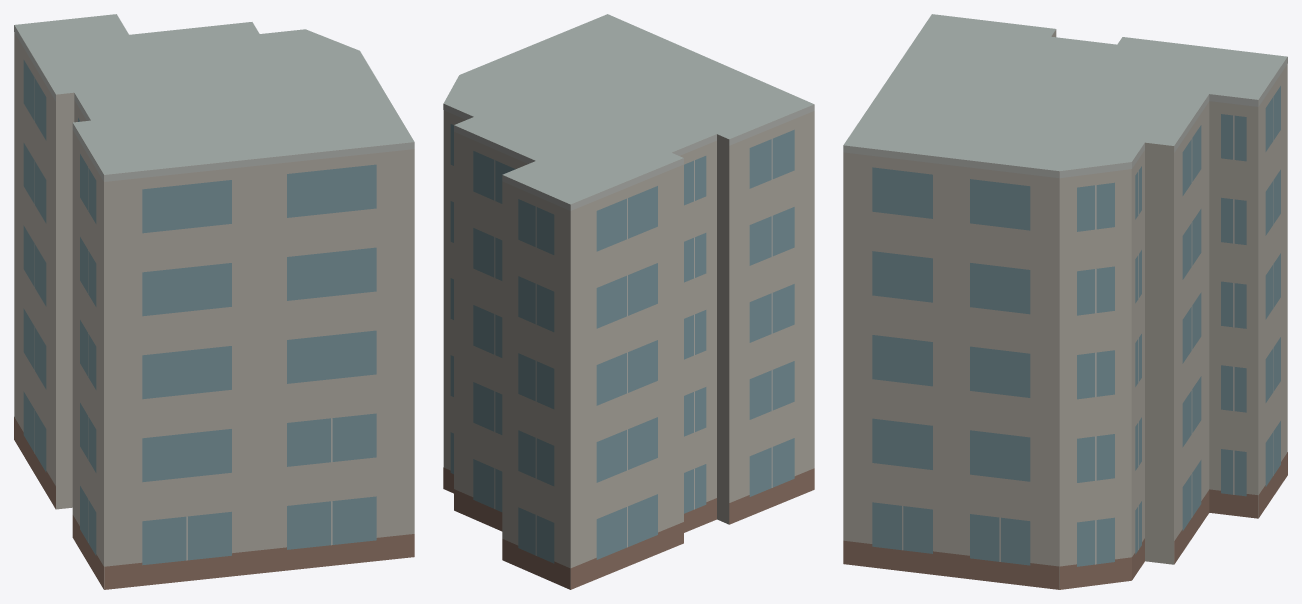
File: survey-upis-32788734.glb
3 views of the same model, side by side, from view 1: azimuth 30°, elevation 25°; view 2: azimuth 150°, elevation 25°; view 3: azimuth 270°, elevation 25° (orthographic). The views are drawn at different scales.
Visible parts, largest first — view 1: survey-upis-32788734.tmp; view 2: survey-upis-32788734.tmp; view 3: survey-upis-32788734.tmp.
Part boxes in pixels (bbox=[...]): survey-upis-32788734.tmp: bbox=[14, 14, 414, 589]; survey-upis-32788734.tmp: bbox=[443, 14, 814, 589]; survey-upis-32788734.tmp: bbox=[843, 14, 1287, 589].
Bounding box in the file's own units: 11.69 × 14.5 × 13.96.
